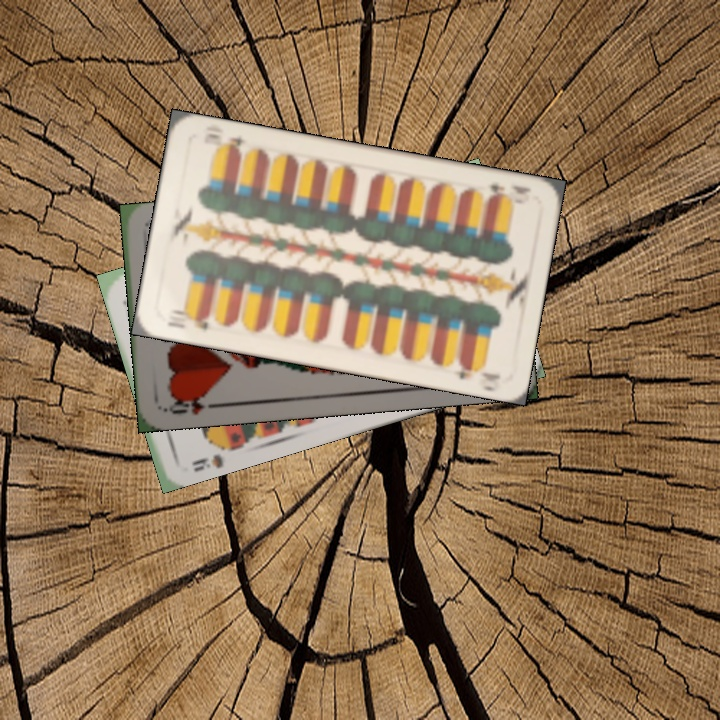E10: (163, 305, 211, 333), (484, 179, 533, 205)
HO: (162, 391, 221, 417)
S9: (187, 438, 237, 475)
